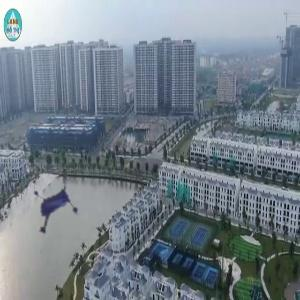drone: (19, 177, 93, 251)
